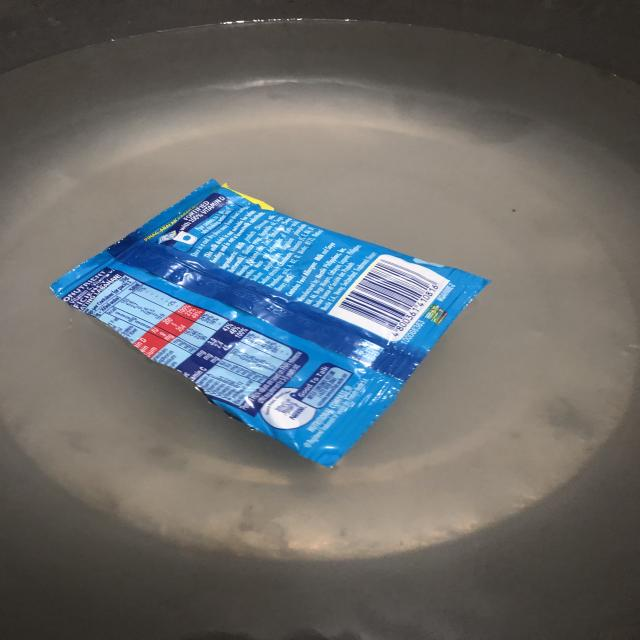Plastic Wrapper: (51, 180, 489, 467)
